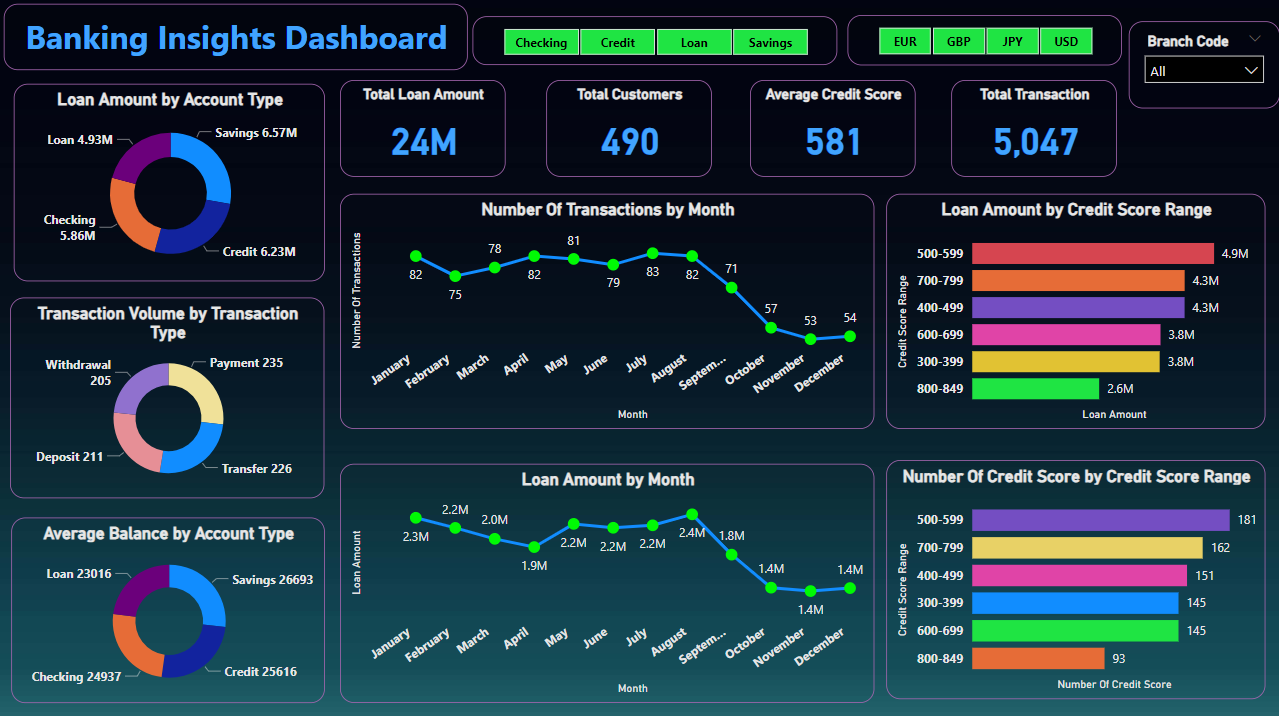

The dashboard page shown, as its layout file describes it:
{"tool":"powerbi","page":{"name":"Page 1","canvas":[1280,720],"ordinal":0},"visuals":[{"type":"textbox","box":[0,0,463.2,66.4],"z":0},{"type":"donutChart","fields":{"Category":["Merge1.TransactionType"],"Y":["Merge1.Transaction Volume"]},"box":[10.4,297.7,314.6,200.6],"z":1000},{"type":"slicer","fields":{"Values":["Merge1.Sheet2.AccountType"]},"box":[472.5,16.8,365,49.2],"z":2000},{"type":"slicer","fields":{"Values":["Merge1.Currency"]},"box":[847.9,15.5,274.4,50.5],"z":3000},{"type":"slicer","fields":{"Values":["Merge1.BranchCode"]},"box":[1129.3,20.8,150.9,87.2],"z":4000},{"type":"donutChart","fields":{"Category":["Merge1.Sheet2.AccountType"],"Y":["Avg(Merge1.Sheet2.Balance)"]},"box":[10.9,517.4,313.6,185.7],"z":5000},{"type":"barChart","fields":{"Category":["Merge1.Credit Score Range"],"Y":["CountNonNull(Merge1.Sheet2.CreditScore)"]},"box":[886.7,459.5,379.3,239.5],"z":6000},{"type":"lineChart","fields":{"Y":["CountNonNull(Merge1.TransactionType)"],"Category":["Merge1.TransactionDate.Variation.Date Hierarchy.Month"]},"box":[340.5,194.2,534.6,235.6],"z":7000},{"type":"lineChart","fields":{"Category":["Merge1.TransactionDate.Variation.Date Hierarchy.Month"],"Y":["Sum(Merge1.Sheet2.LoanAmount)"]},"box":[340.5,463.4,534.6,239.5],"z":8000},{"type":"donutChart","fields":{"Category":["Merge1.Sheet2.AccountType"],"Y":["Sum(Merge1.Sheet2.LoanAmount)"]},"box":[14.2,84.1,310.7,196.8],"z":9000},{"type":"clusteredBarChart","fields":{"Y":["Sum(Merge1.Sheet2.LoanAmount)"],"Category":["Merge1.Credit Score Range"]},"box":[886.7,194.2,379.3,235.6],"z":10000},{"type":"card","title":"Total Loan Amount","fields":{"Values":["Sum(Merge1.Sheet2.LoanAmount)"]},"box":[340.5,80.3,165.7,97.1],"z":11000},{"type":"card","title":"Total Customers","fields":{"Values":["Count(Merge1.Sheet2.AccountNumber)"]},"box":[546.3,80.3,165.7,97.1],"z":12000},{"type":"card","title":"Average Credit Score","fields":{"Values":["Avg(Merge1.Sheet2.CreditScore)"]},"box":[749.5,80.3,165.7,97.1],"z":13000},{"type":"card","title":"Total Transaction","fields":{"Values":["Avg(Merge1.Amount)"]},"box":[951.5,80.3,165.7,97.1],"z":14000}]}

Visuals, with their boxes in screenshot pixels (x1, y1, x2, y2), scaled from the page's 1280x720 canvas onto the 1279x716 screenshot:
textbox: box(0, 0, 463, 66)
donutChart - Merge1.TransactionType x Merge1.Transaction Volume: box(10, 296, 325, 496)
slicer - Merge1.Sheet2.AccountType: box(472, 17, 837, 66)
slicer - Merge1.Currency: box(847, 15, 1121, 66)
slicer - Merge1.BranchCode: box(1128, 21, 1278, 107)
donutChart - Merge1.Sheet2.AccountType x Avg(Merge1.Sheet2.Balance): box(11, 515, 324, 699)
barChart - Merge1.Credit Score Range x CountNonNull(Merge1.Sheet2.CreditScore): box(886, 457, 1265, 695)
lineChart - CountNonNull(Merge1.TransactionType) x Merge1.TransactionDate.Variation.Date Hierarchy.Month: box(340, 193, 874, 427)
lineChart - Merge1.TransactionDate.Variation.Date Hierarchy.Month x Sum(Merge1.Sheet2.LoanAmount): box(340, 461, 874, 699)
donutChart - Merge1.Sheet2.AccountType x Sum(Merge1.Sheet2.LoanAmount): box(14, 84, 325, 279)
clusteredBarChart - Sum(Merge1.Sheet2.LoanAmount) x Merge1.Credit Score Range: box(886, 193, 1265, 427)
"Total Loan Amount" card: box(340, 80, 506, 176)
"Total Customers" card: box(546, 80, 711, 176)
"Average Credit Score" card: box(749, 80, 914, 176)
"Total Transaction" card: box(951, 80, 1116, 176)
